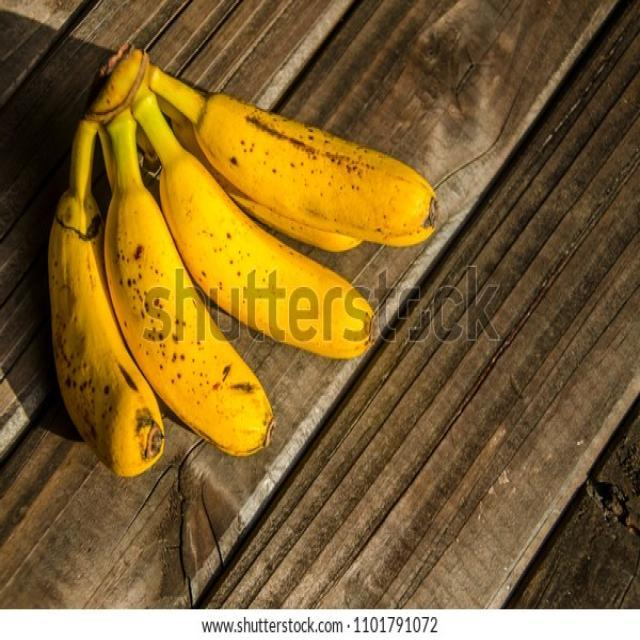banana: (42, 37, 444, 484)
